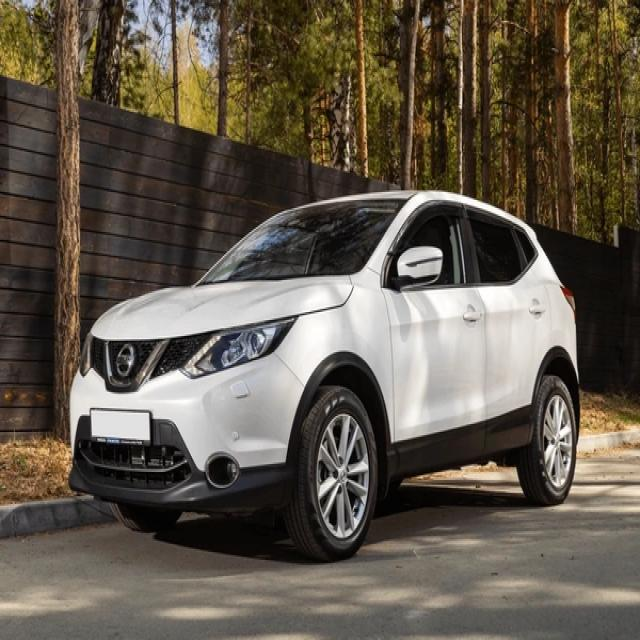nissan: (114, 339, 138, 379)
